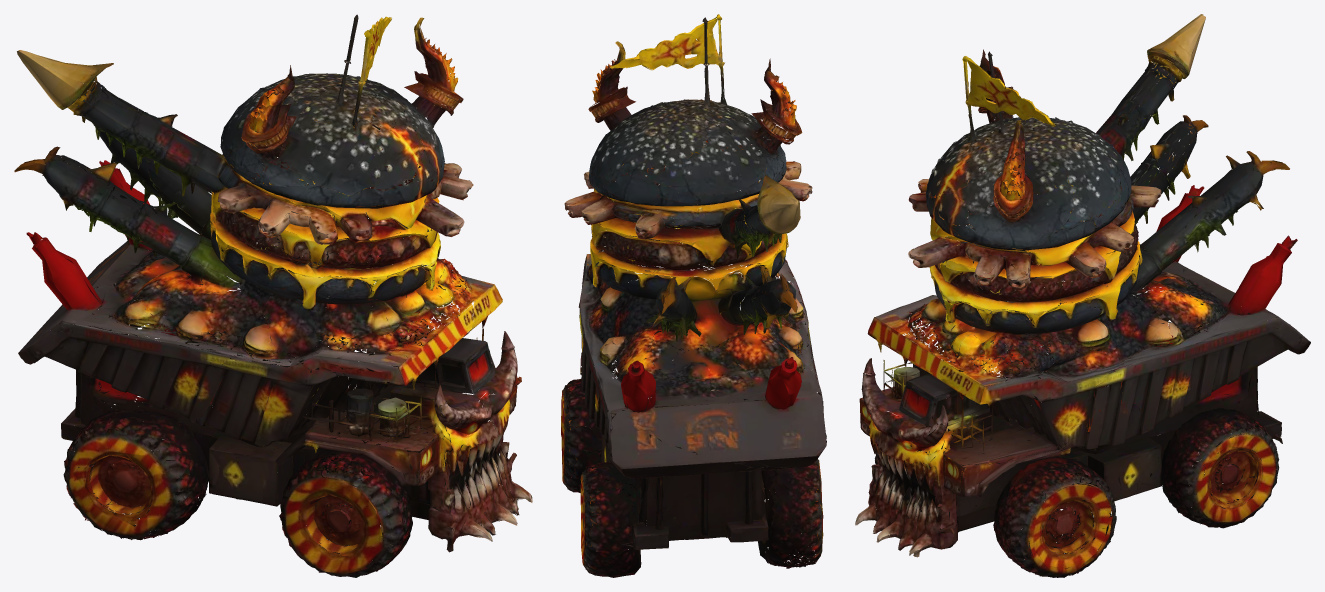
File: borgirboss.glb
3 views of the same model, side by side, from view 1: azimuth 30°, elevation 25°; view 2: azimuth 150°, elevation 25°; view 3: azimuth 270°, elevation 25° (orthographic). The views are drawn at different scales.
Visible parts, largest first — view 1: node_0; view 2: node_0; view 3: node_0.
Part boxes in pixels (<box>): node_0: <box>14,14,532,577</box>; node_0: <box>561,14,826,577</box>; node_0: <box>855,14,1310,577</box>.
Bounding box in the file's own units: 0.7089 × 0.9242 × 0.796.
Materials: 1 (1 with a texture image).
